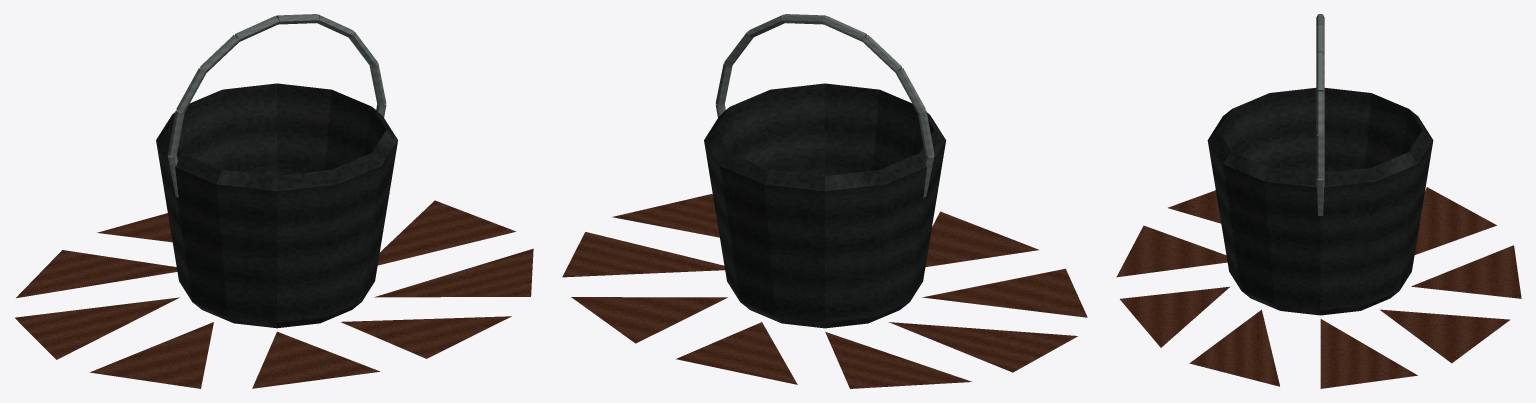
Rendered from level_trace_leak_bucket.glb.
3 renders of one model, left to right at view 1: azimuth 30°, elevation 25°; view 2: azimuth 150°, elevation 25°; view 3: azimuth 270°, elevation 25°, orthographic. The views are drawn at different scales.
Visible parts, largest first — view 1: level_trace_leak_bucket; view 2: level_trace_leak_bucket; view 3: level_trace_leak_bucket.
Boxes of the visible parts, x1,y1,x2,y2 form: level_trace_leak_bucket: (15,14,533,388); level_trace_leak_bucket: (562,14,1087,388); level_trace_leak_bucket: (1116,14,1521,388).
Bounding box in the file's own units: 0.9545 × 0.5268 × 0.7541.
3 materials, 3 textured.
